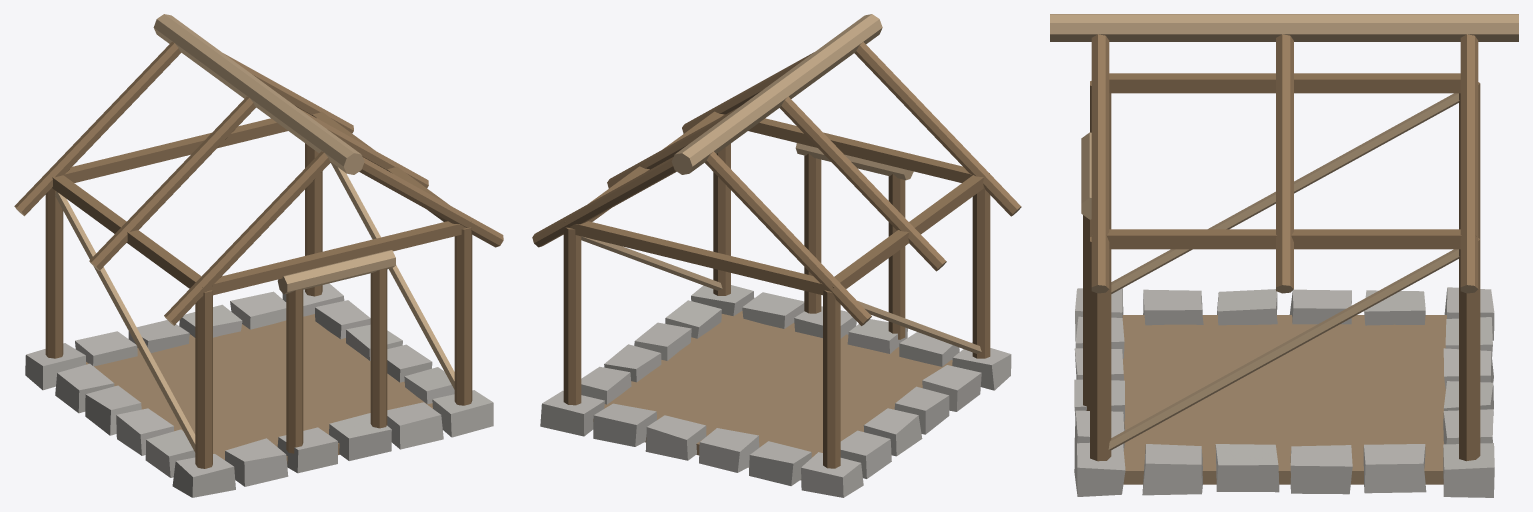
Rendered from building_smokehouse_frame.glb.
3 renders of one model, left to right at view 1: azimuth 30°, elevation 25°; view 2: azimuth 150°, elevation 25°; view 3: azimuth 270°, elevation 25°, orthographic. The views are drawn at different scales.
Parts seen in each view (by area): view 1: building_smokehouse_frame; view 2: building_smokehouse_frame; view 3: building_smokehouse_frame.
Part boxes in pixels (box(x1,y1,x2,y2)): building_smokehouse_frame: box(14, 14, 503, 497); building_smokehouse_frame: box(532, 14, 1021, 497); building_smokehouse_frame: box(1050, 14, 1518, 497).
Size of the model in its own units: 3.85 by 3.47 by 3.76.
